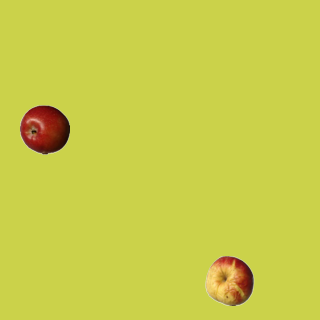Apple Braeburn: (19, 104, 69, 154)
Apple Red Yellow 1: (204, 255, 254, 305)
